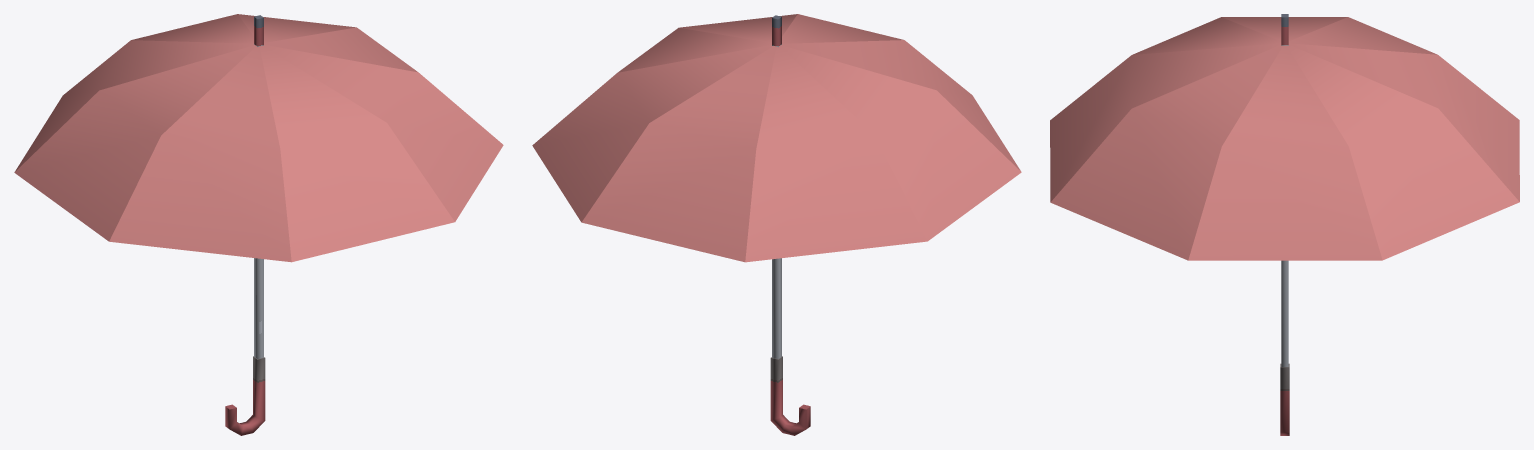
File: 03f4_Umbrella.glb
3 views of the same model, side by side, from view 1: azimuth 30°, elevation 25°; view 2: azimuth 150°, elevation 25°; view 3: azimuth 270°, elevation 25° (orthographic). The views are drawn at different scales.
Parts seen in each view (by area): view 1: part_0; view 2: part_0; view 3: part_0.
Boxes of the visible parts, x1,y1,x2,y2 form: part_0: (14, 14, 503, 435); part_0: (532, 14, 1021, 435); part_0: (1050, 14, 1519, 435).
Size of the model in its own units: 1.24 by 1.24 by 1.24.
1 material, 1 textured.
